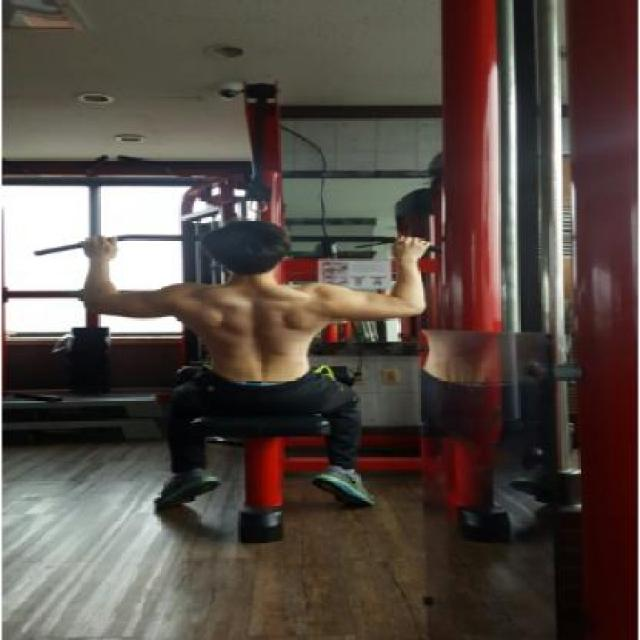Lat Pull Down: (17, 66, 591, 565)
